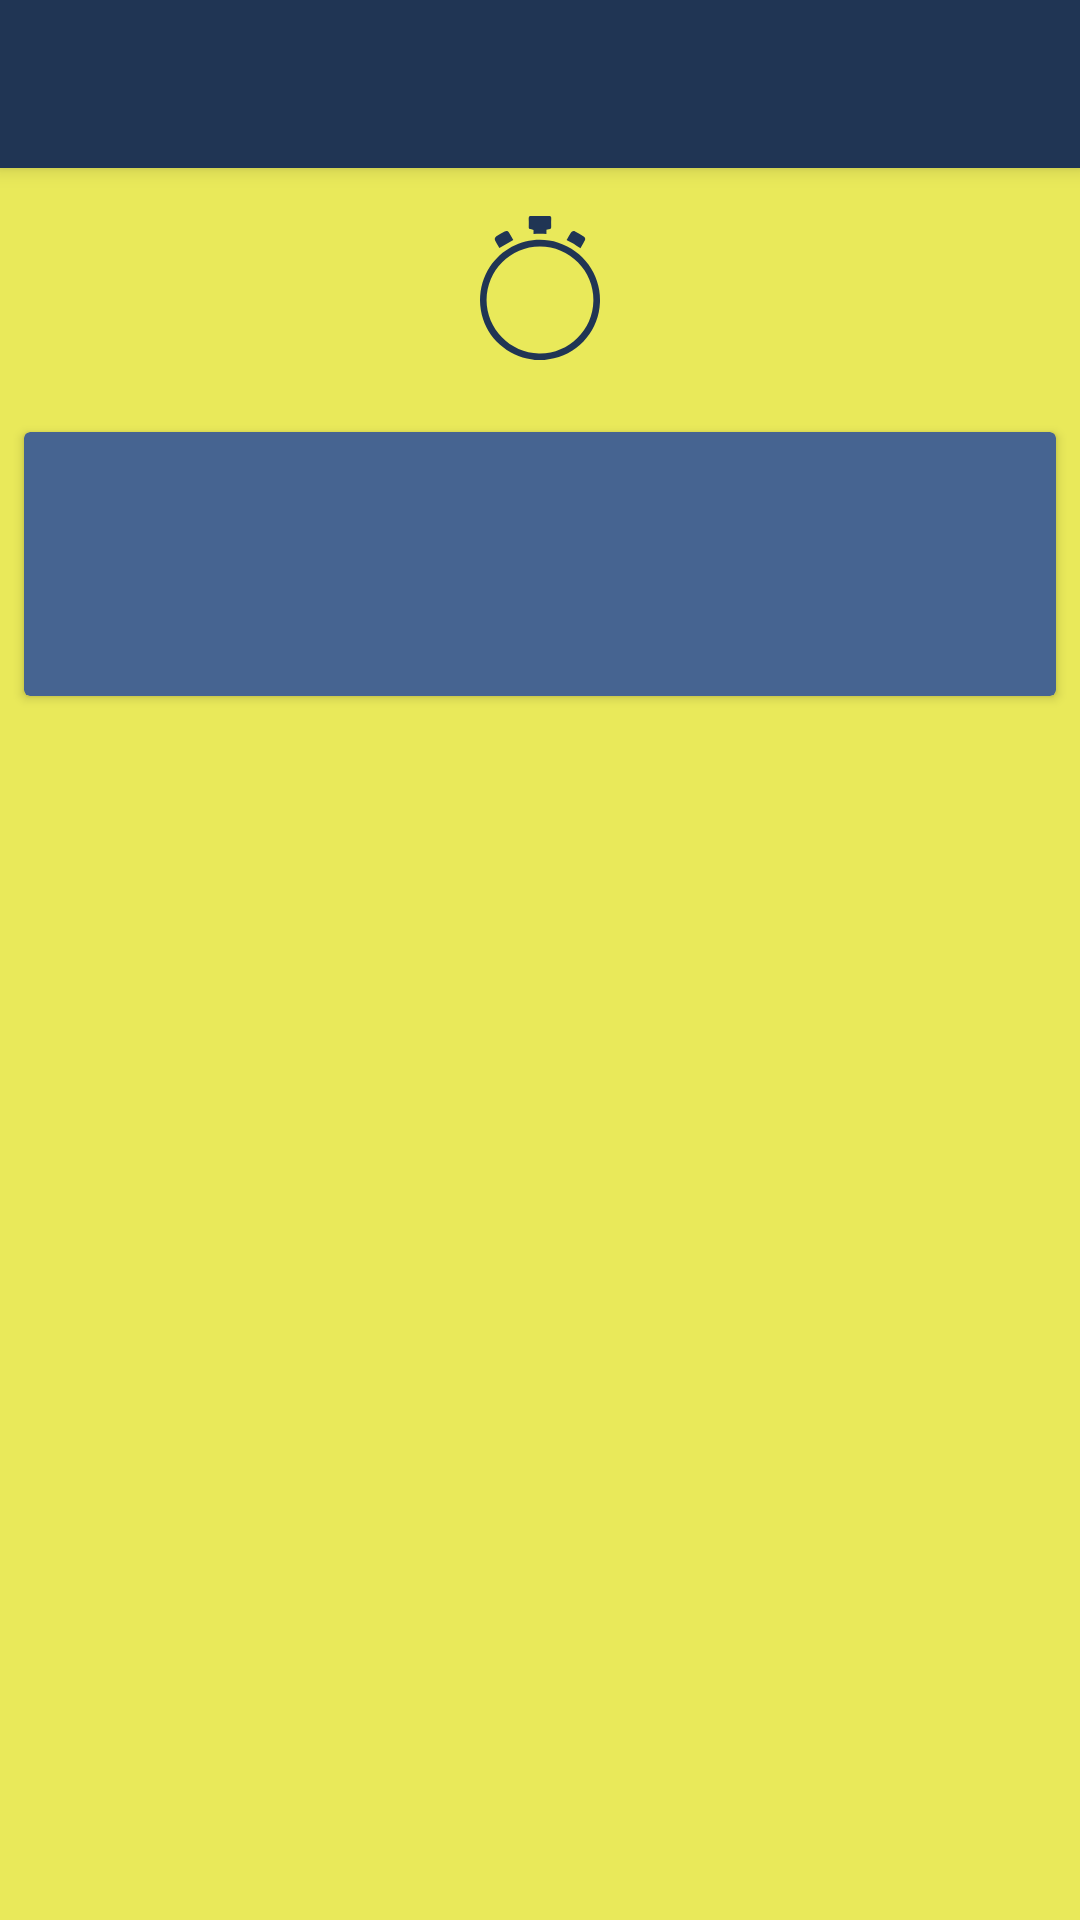

Named icons in this screenshot (1080*1920) and their centers, [x,y]:
Timer: [540,288]
